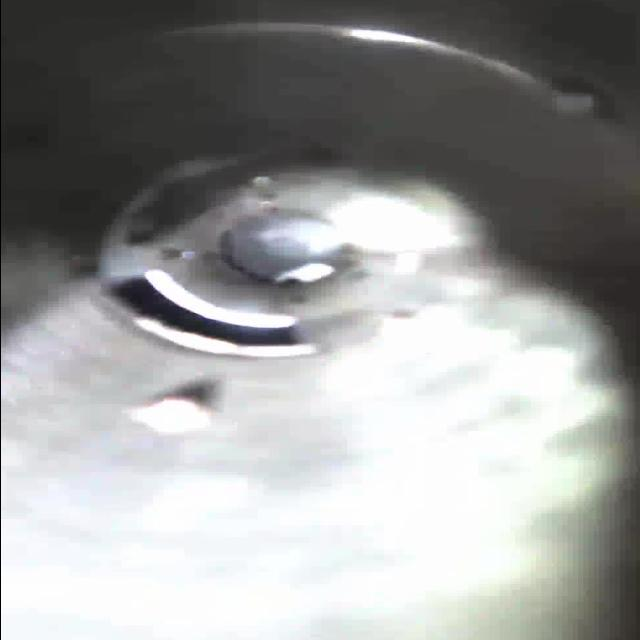hole: (94, 265, 337, 360)
